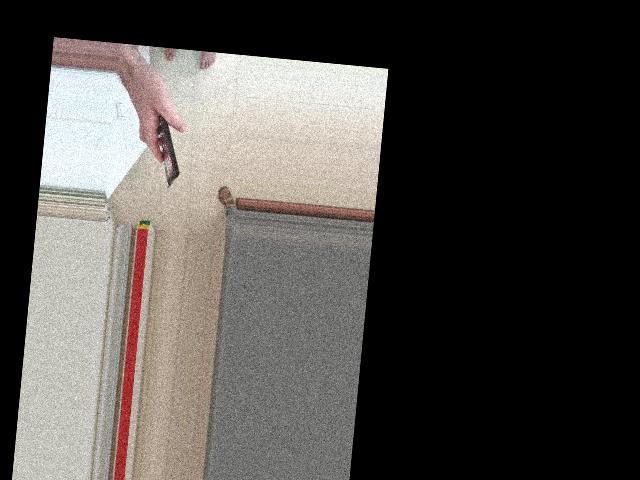chocolate: (136, 65, 190, 187)
